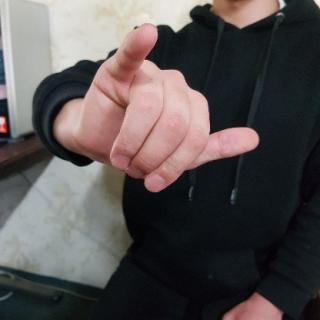YA: (72, 21, 266, 198)
